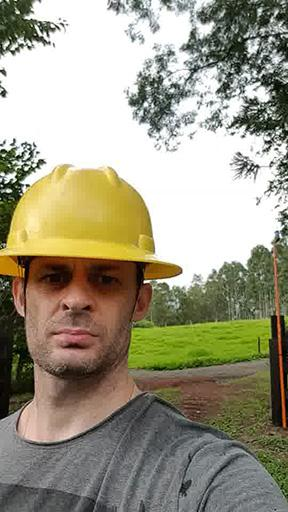Vara_Manobra: (270, 244, 288, 430)
